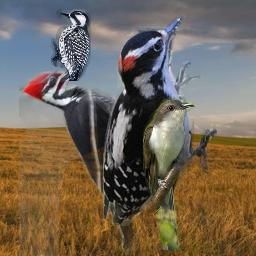Cuckoo: (143, 94, 195, 250)
Woodpecker: (19, 62, 151, 256), (103, 14, 217, 226), (51, 8, 91, 81)
